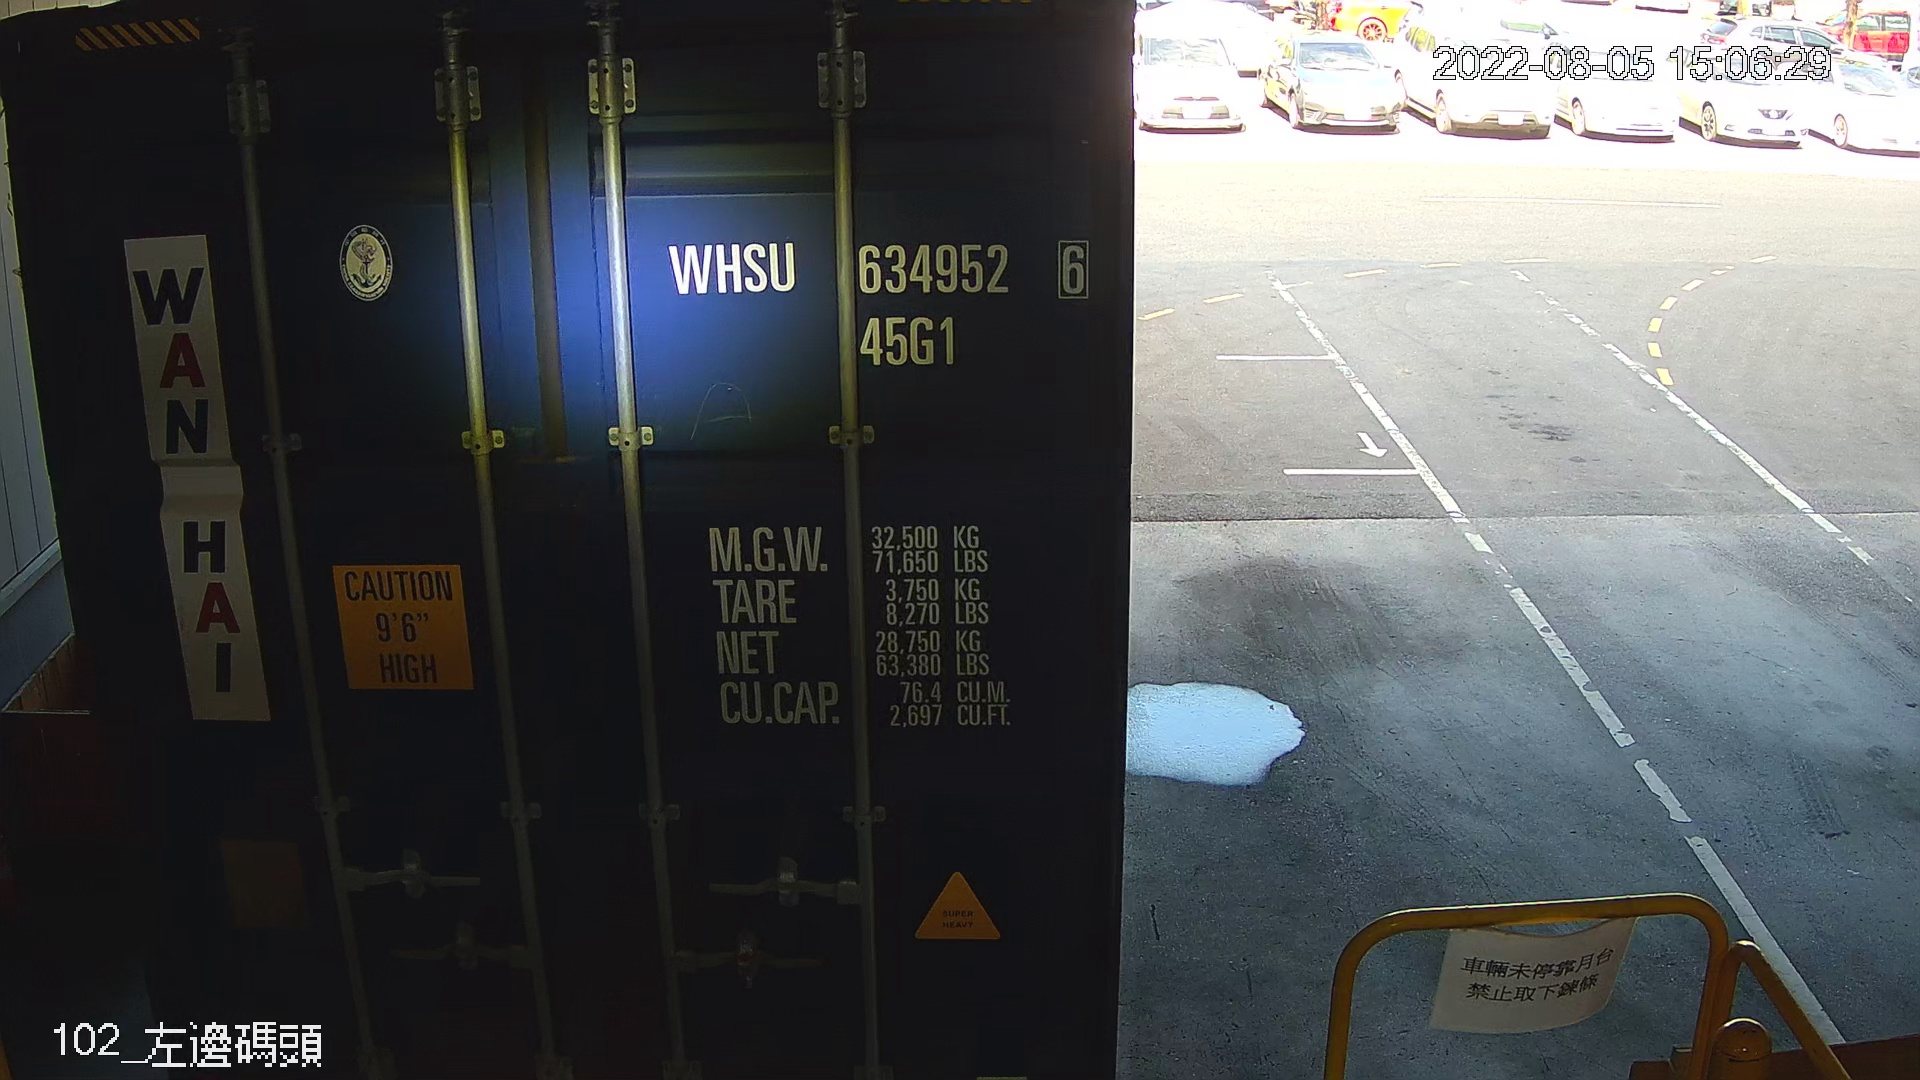container: (651, 223, 1102, 382)
